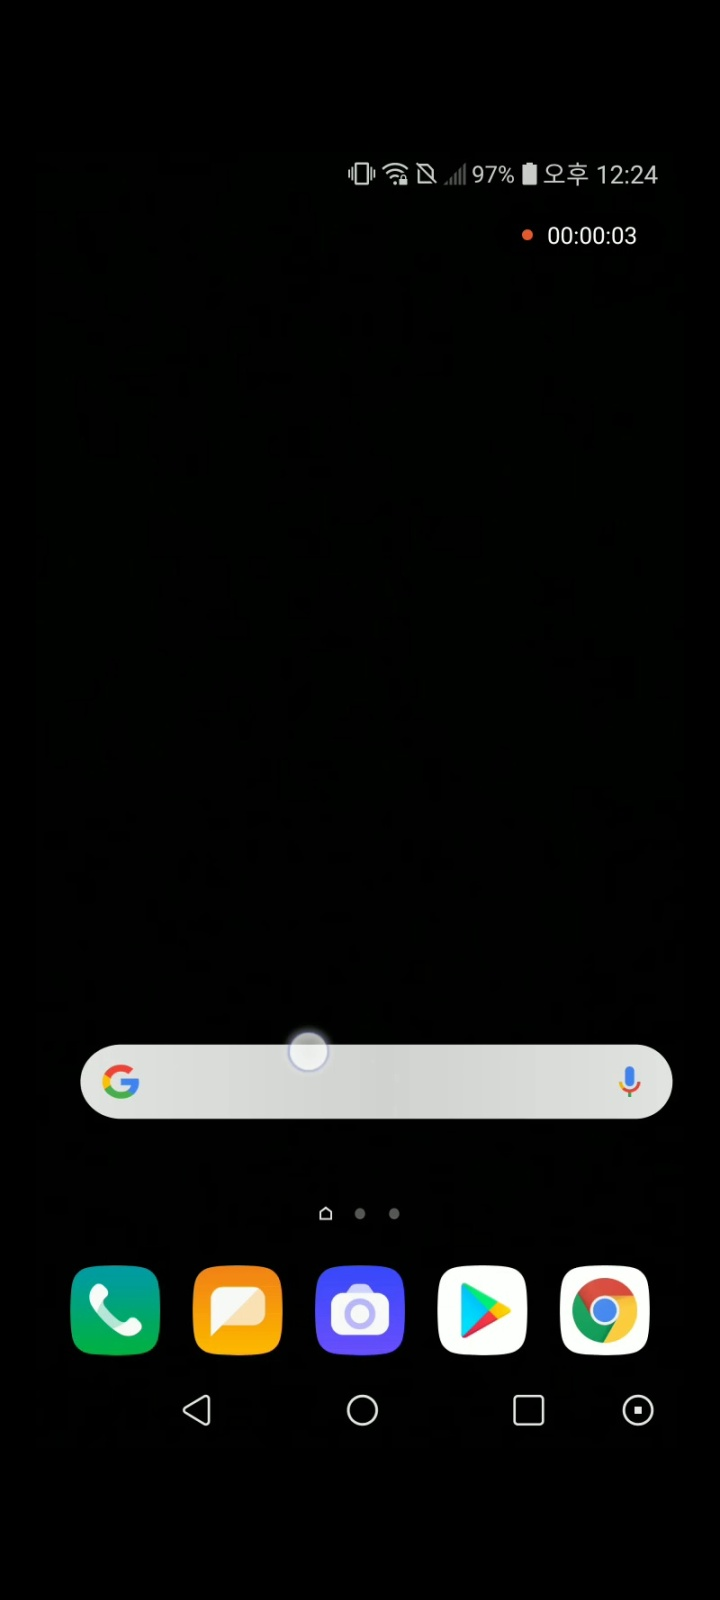Cursor: (286, 1031, 331, 1076)
